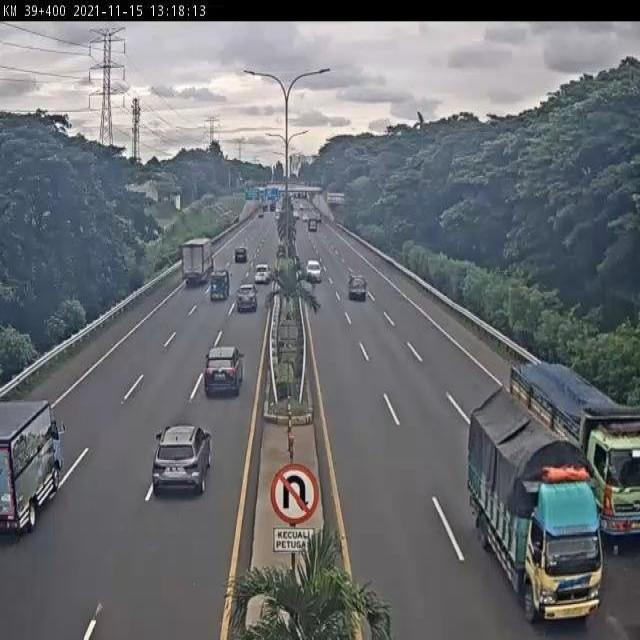Car: (152, 423, 211, 495), (203, 344, 245, 398), (235, 283, 258, 312), (348, 274, 367, 301), (305, 259, 323, 283), (254, 264, 272, 285), (235, 246, 247, 262), (294, 254, 303, 273), (285, 196, 295, 211), (308, 218, 318, 232), (277, 244, 286, 258), (297, 206, 306, 218), (275, 206, 282, 218), (293, 210, 300, 221), (317, 188, 325, 197), (270, 202, 276, 212), (299, 192, 307, 199), (258, 210, 264, 218), (318, 216, 323, 225), (262, 204, 267, 212)
Truck: (467, 389, 602, 621), (1, 399, 64, 535), (180, 238, 214, 286)
